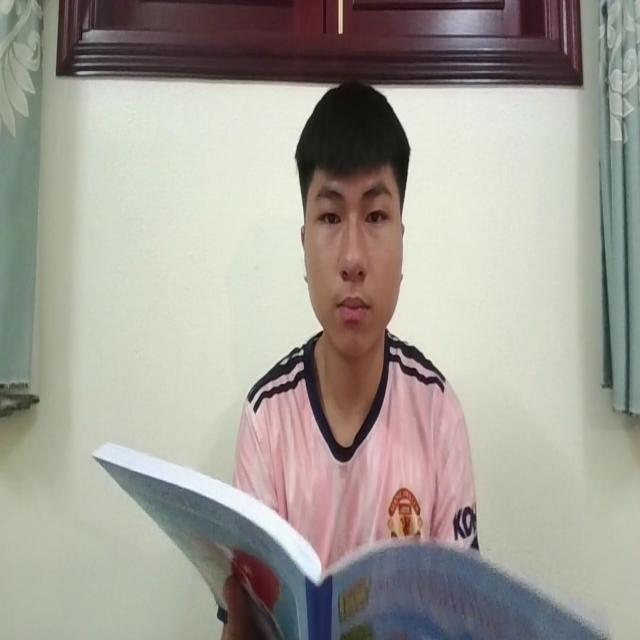book: (95, 428, 595, 640)
student: (215, 78, 486, 551)
